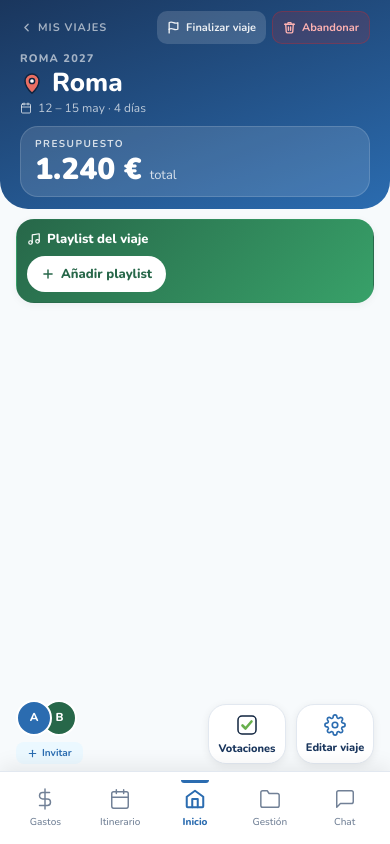
Test: InicioViaje · abandonar el viaje › cancelar la confirmación no abandona el viaje
Click the button "Abandonar" at {"x": 321, "y": 28}, box [272,11,370,44]
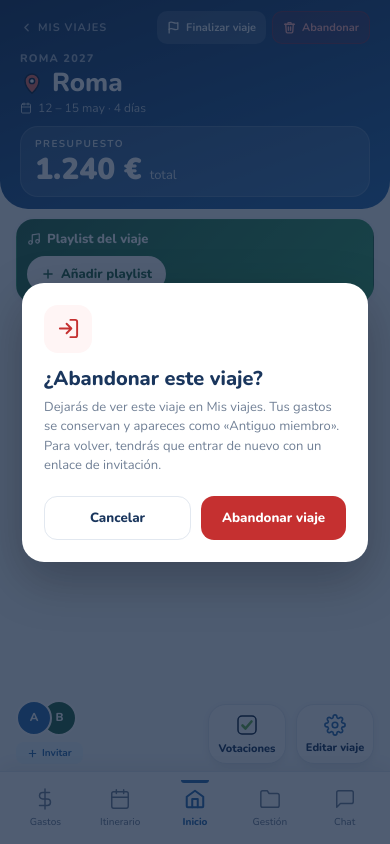
Click the button "Cancelar" at {"x": 118, "y": 518}, box [44,496,191,540]
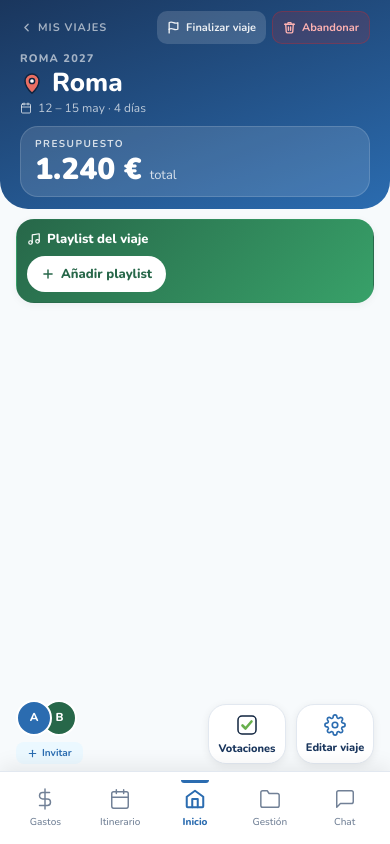
Expected: the dialog is gone
